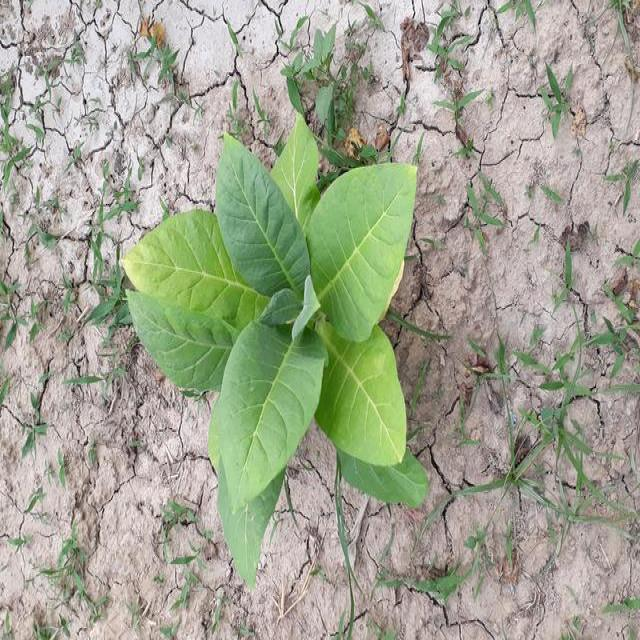crop: (126, 137, 431, 578)
